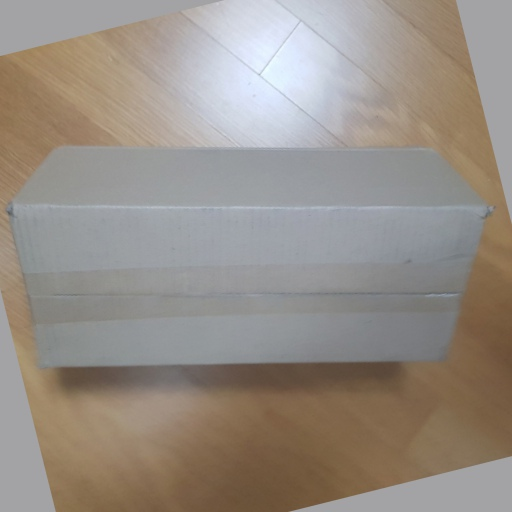Paper_0: (7, 140, 495, 372)
